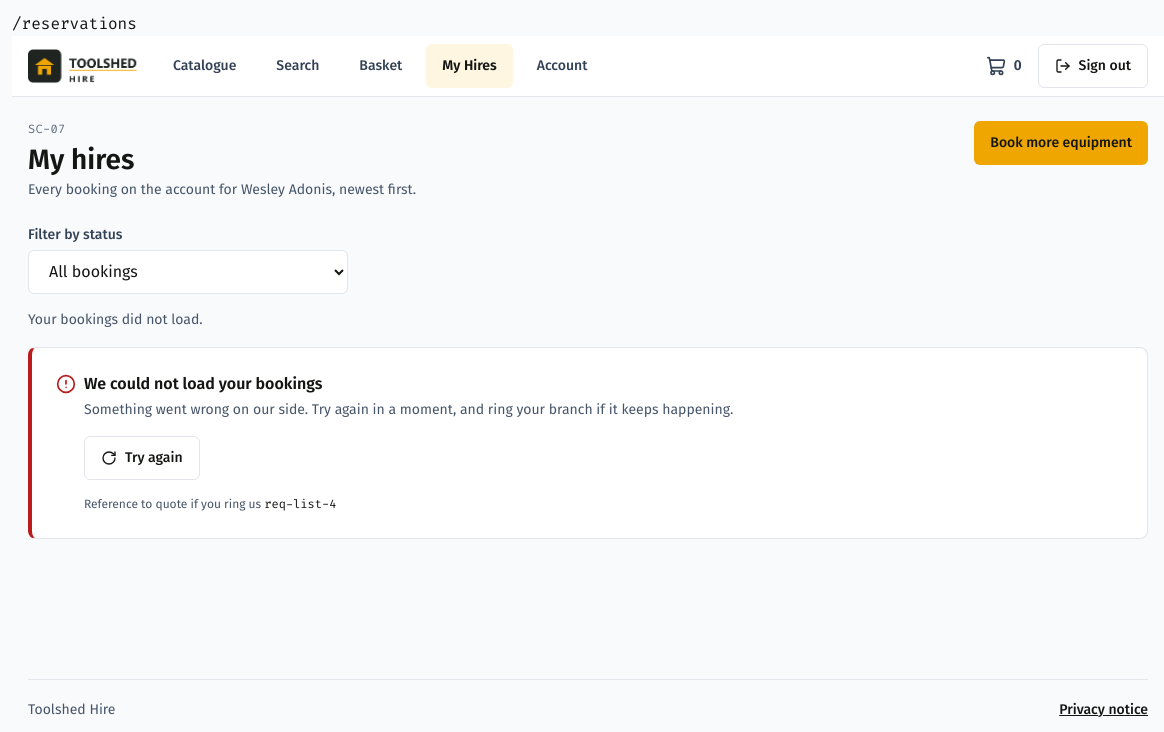
Scenario: when the list fails to load › says so in plain words with the reference, and loads on a retry
Expected: the message that starts with "We could not load your bookings" is shown, [84,374,322,393]
Expected: the text "req-list-4" is shown, [264,496,336,512]
Click the button "Try again" at (142, 458), box [84,436,200,480]
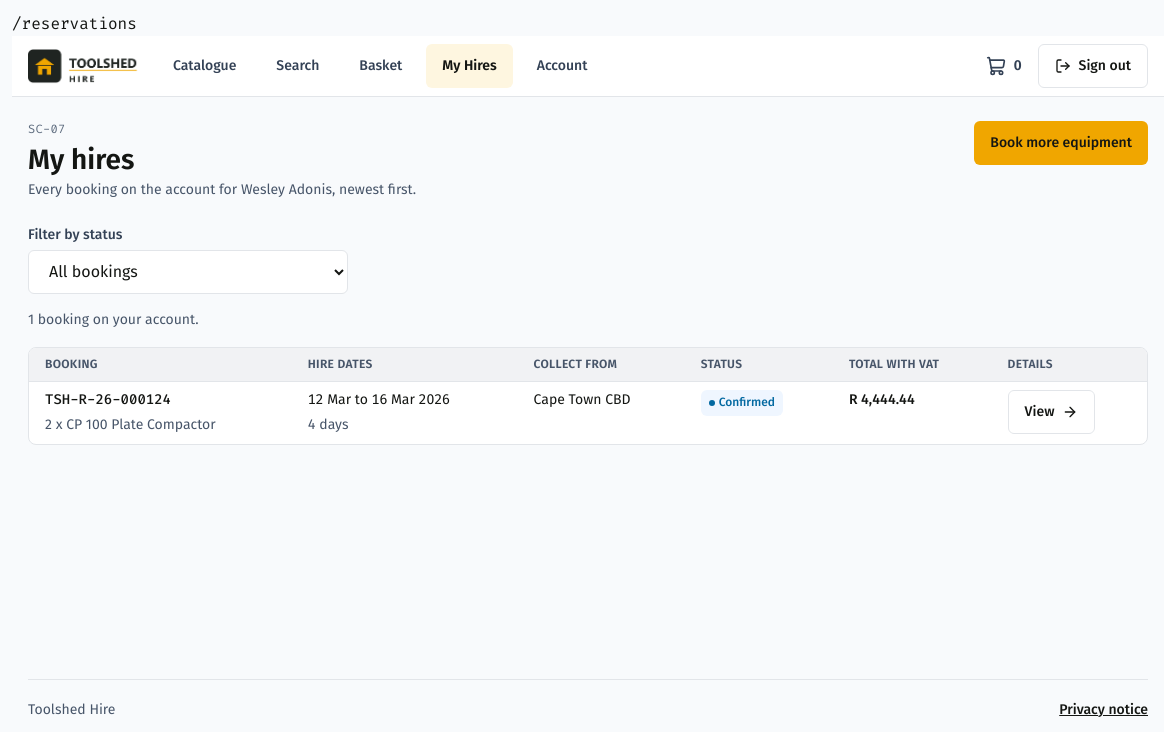
Expected: the text "TSH-R-26-000124" is shown, [45,390,171,409]
